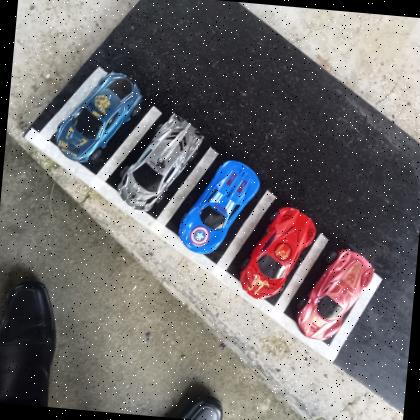Car: (115, 109, 205, 214), (52, 67, 143, 168), (177, 156, 262, 258), (294, 246, 376, 344), (238, 202, 318, 302)
